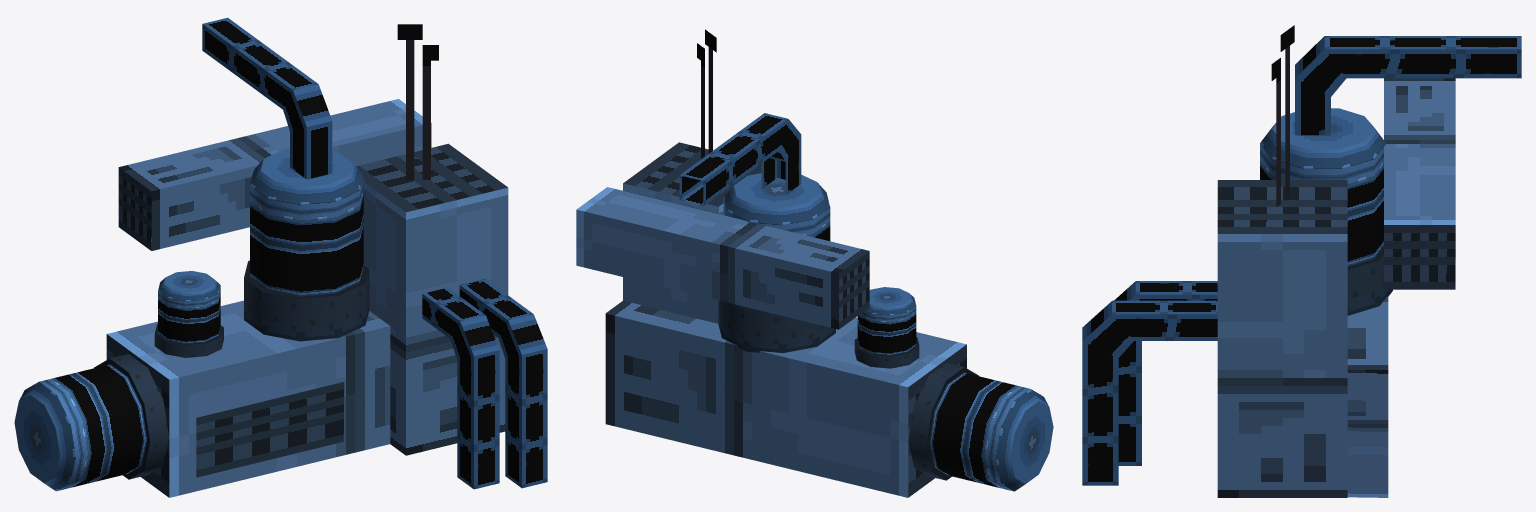
File: Pump_BLUE_01.fbx
3 views of the same model, side by side, from view 1: azimuth 30°, elevation 25°; view 2: azimuth 150°, elevation 25°; view 3: azimuth 270°, elevation 25° (orthographic). The views are drawn at different scales.
Parts seen in each view (by area): view 1: polySurface108; view 2: polySurface108; view 3: polySurface108.
Part boxes in pixels (bbox=[...]): polySurface108: bbox=[14, 17, 547, 497]; polySurface108: bbox=[576, 29, 1053, 497]; polySurface108: bbox=[1082, 25, 1521, 497].
Size of the model in its own units: 7.42 by 6.84 by 6.13.
